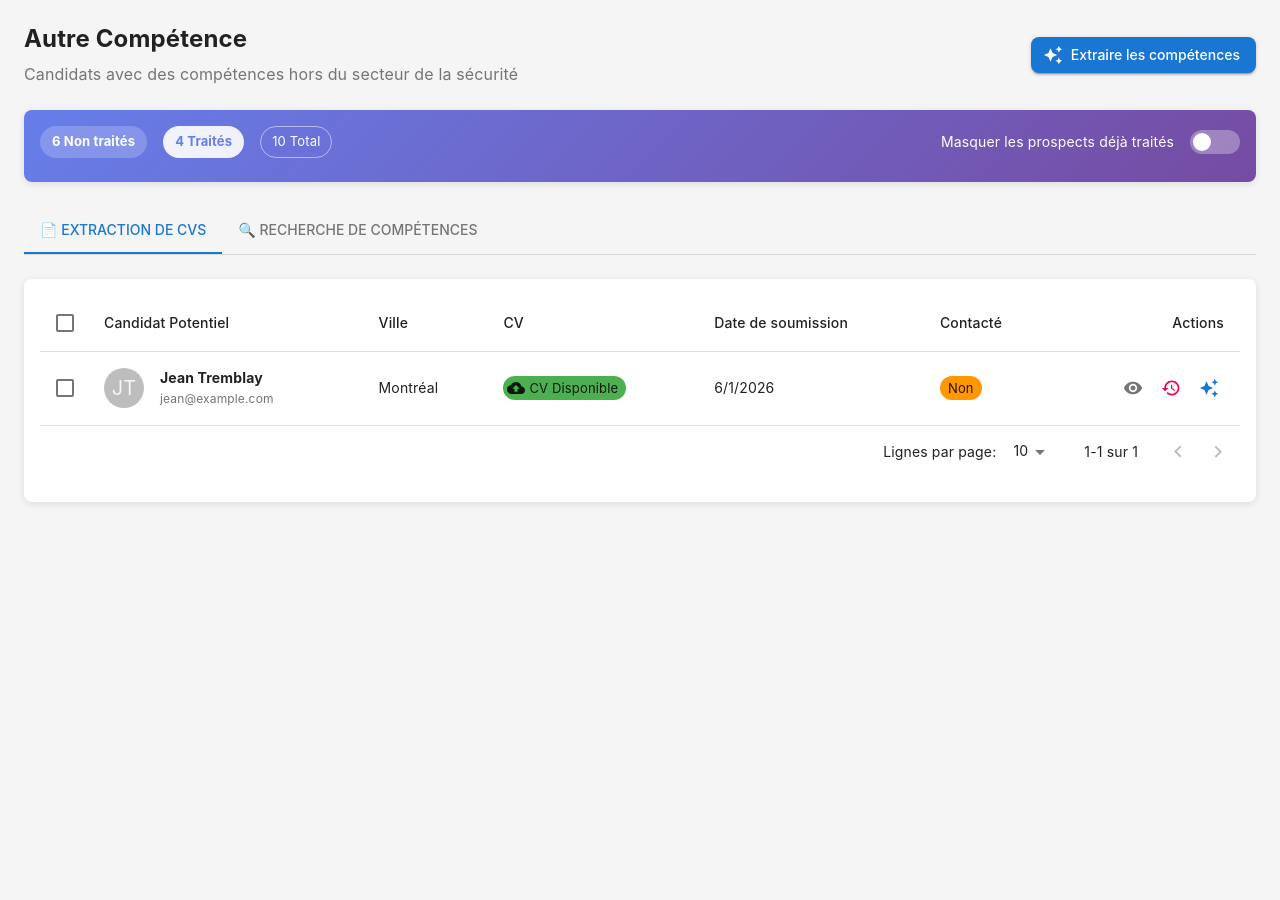
Scenario: AutresCompetancesPage › bascule sur l'onglet Recherche et charge automatiquement les compétences
Expected: the text "Jean Tremblay" is shown, [160, 368, 274, 388]
What coordinates should you click on to do the following:
click the tab "🔍 Recherche de Compétences"
I would click on:
 (358, 230)
Its box is [222, 206, 494, 254].
(page scrolled)
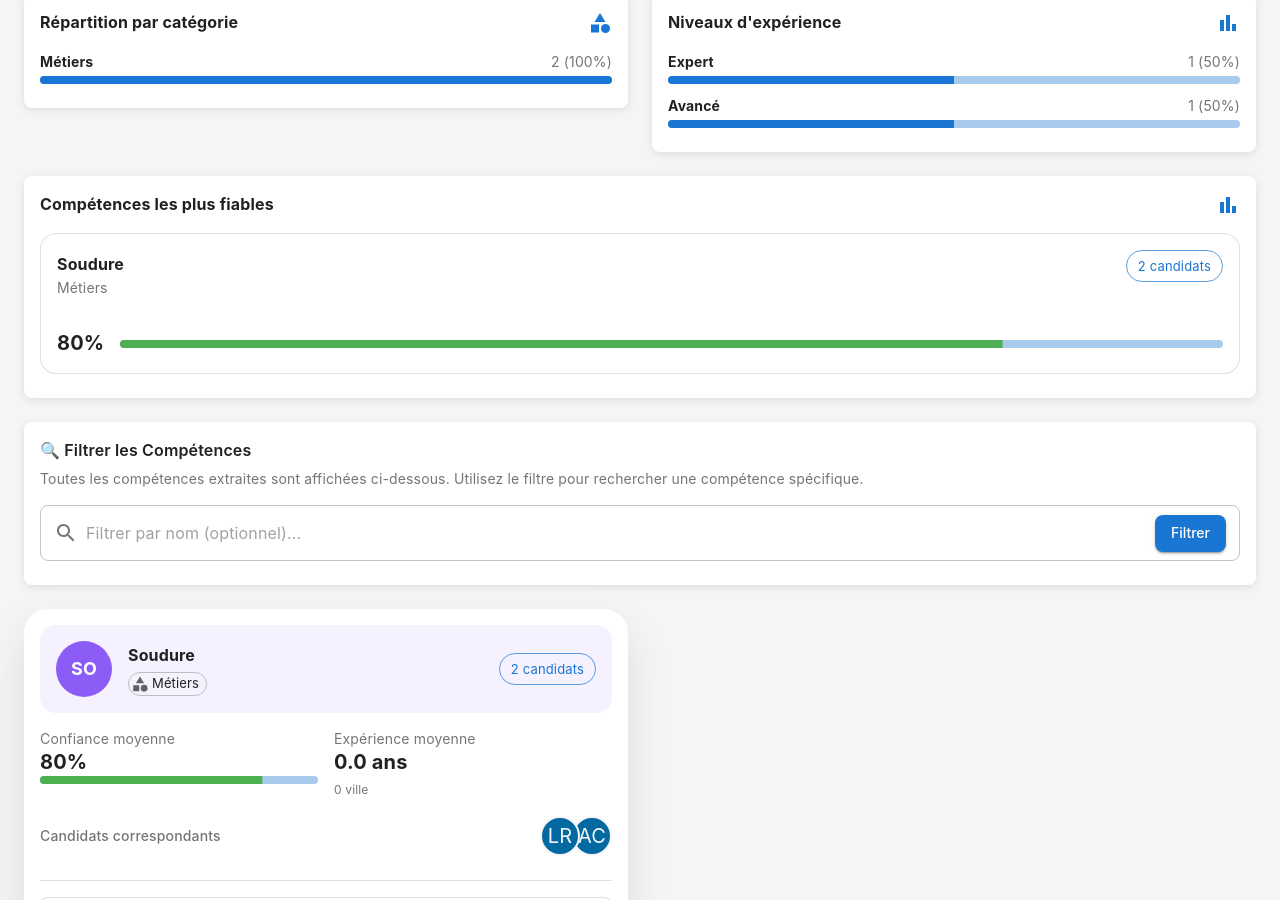
Expected: the heading "Soudure" below "Compétences les plus fiables" is shown, [57, 254, 124, 274]
Expected: the heading "🔍 Filtrer les Compétences" is shown, [40, 440, 251, 460]
